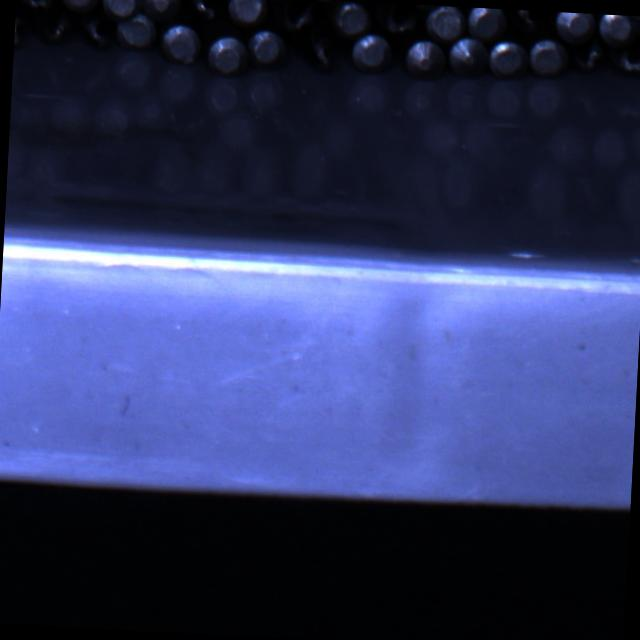tool: (404, 36, 447, 80), (246, 26, 288, 68), (161, 22, 203, 64), (351, 31, 392, 73), (117, 11, 159, 51), (206, 32, 246, 73), (487, 38, 528, 78), (423, 5, 465, 44), (448, 36, 488, 76), (330, 1, 372, 39), (528, 38, 569, 76), (552, 12, 596, 44), (464, 7, 506, 40), (598, 14, 638, 46), (225, 0, 268, 29), (141, 0, 182, 21), (103, 0, 143, 19), (59, 0, 102, 12)
tool_b: (76, 12, 118, 52), (375, 2, 422, 36), (301, 32, 340, 72), (275, 0, 320, 34), (36, 9, 74, 48), (569, 38, 606, 75), (506, 10, 552, 36), (608, 43, 640, 79), (184, 0, 221, 22), (17, 0, 61, 12)
